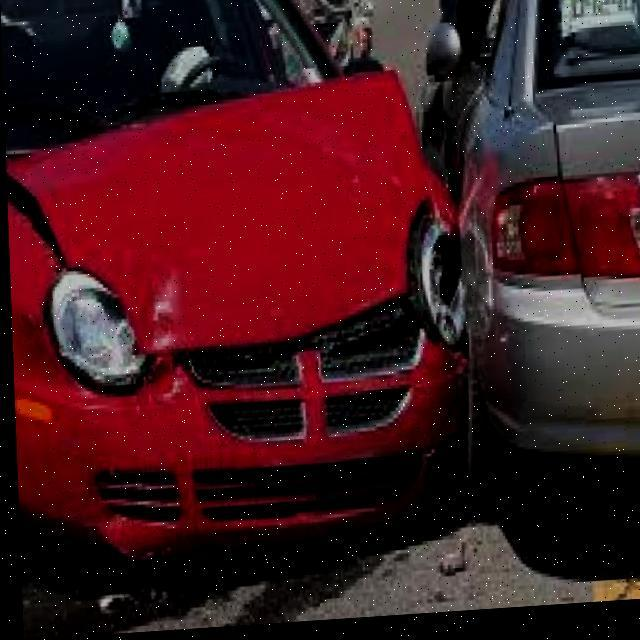multiple_accident: (37, 18, 640, 530)
